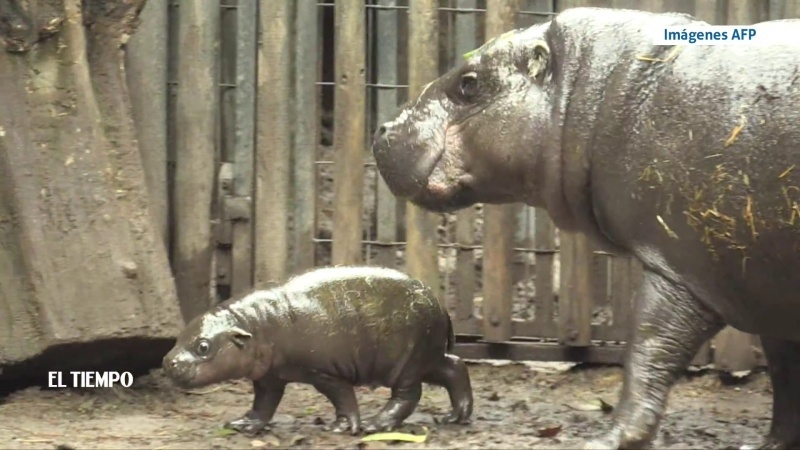hipopotamo: (363, 6, 797, 450), (149, 259, 494, 438)
